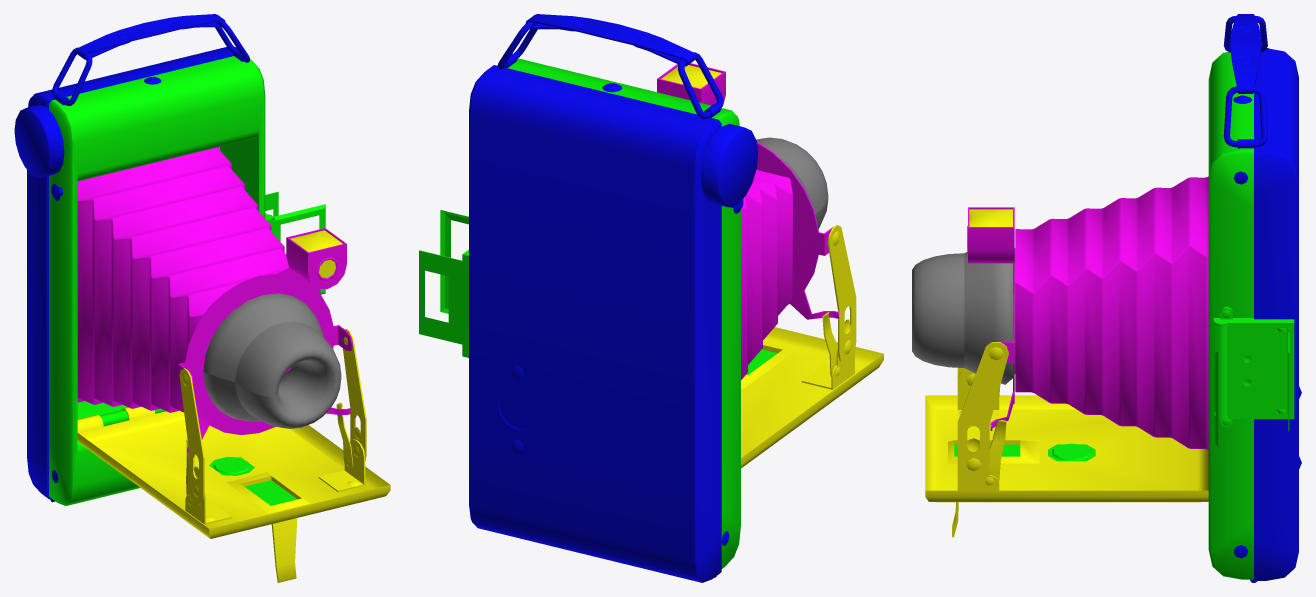
Rendered from Camera.fbx.
3 views of the same model, side by side, from view 1: azimuth 30°, elevation 25°; view 2: azimuth 150°, elevation 25°; view 3: azimuth 270°, elevation 25° (orthographic). The views are drawn at different scales.
Visible parts, largest first — view 1: Flesh, lvc_01, lvc_04, lvc_00, Mouth, lvc_03; view 2: lvc_00, lvc_01, lvc_04, Flesh, lvc_03, Mouth; view 3: Flesh, lvc_01, lvc_04, lvc_00, Mouth, lvc_03.
Boxes of the visible parts, <box> form: Flesh: <box>77,147,288,412</box>; lvc_01: <box>49,56,325,505</box>; lvc_04: <box>77,230,390,582</box>; lvc_00: <box>14,14,249,502</box>; Mouth: <box>203,293,341,428</box>; lvc_03: <box>178,228,352,453</box>; lvc_00: <box>469,14,758,582</box>; lvc_01: <box>419,58,777,568</box>; lvc_04: <box>661,65,883,468</box>; Flesh: <box>741,170,792,379</box>; lvc_03: <box>657,63,838,319</box>; Mouth: <box>756,137,828,228</box>; Flesh: <box>1015,176,1208,450</box>; lvc_01: <box>954,52,1294,579</box>; lvc_04: <box>925,209,1208,537</box>; lvc_00: <box>1223,14,1301,582</box>; Mouth: <box>912,248,1015,384</box>; lvc_03: <box>967,207,1014,430</box>.
Size of the model in its own units: 13.11 by 20.47 by 14.8.
